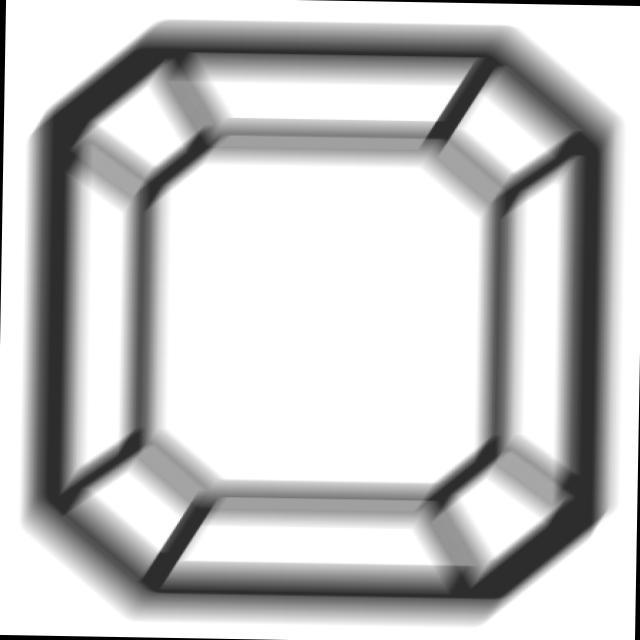emerald: (12, 10, 637, 631)
